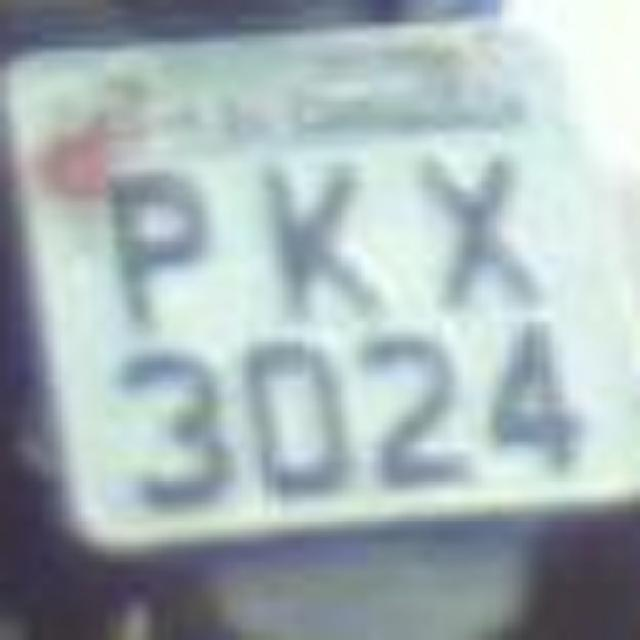0: (216, 324, 369, 504)
2: (340, 328, 472, 500)
3: (68, 312, 248, 520)
4: (452, 315, 588, 500)
K: (240, 148, 395, 320)
P: (92, 148, 228, 332)
X: (400, 136, 552, 329)
